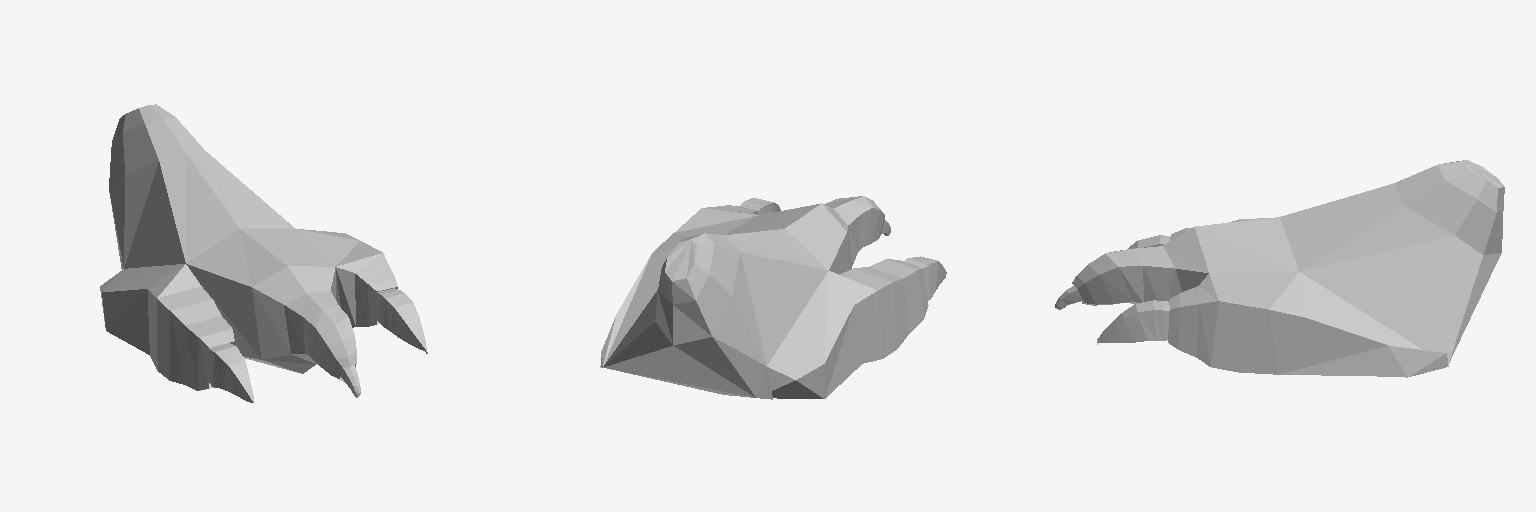
The model's file is spinosaurusOfficialRightFoot.obj.
3 views of the same model, side by side, from view 1: azimuth 30°, elevation 25°; view 2: azimuth 150°, elevation 25°; view 3: azimuth 270°, elevation 25° (orthographic).
Visible parts, largest first — view 1: LeftFoot.001_Cube.000; view 2: LeftFoot.001_Cube.000; view 3: LeftFoot.001_Cube.000.
Part boxes in pixels (bbox=[...]): LeftFoot.001_Cube.000: bbox=[100, 104, 427, 402]; LeftFoot.001_Cube.000: bbox=[600, 196, 946, 399]; LeftFoot.001_Cube.000: bbox=[1055, 160, 1504, 377].
Bounding box in the file's own units: 0.6809 × 0.5288 × 1.23.